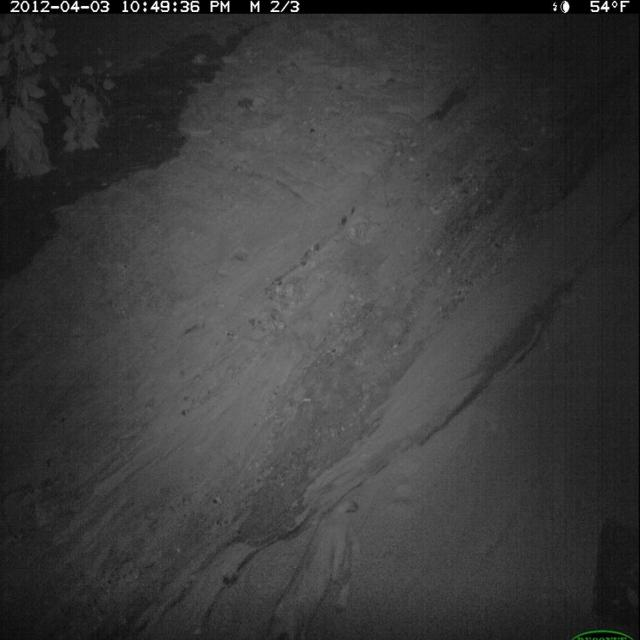bobcat: (265, 489, 362, 640)
